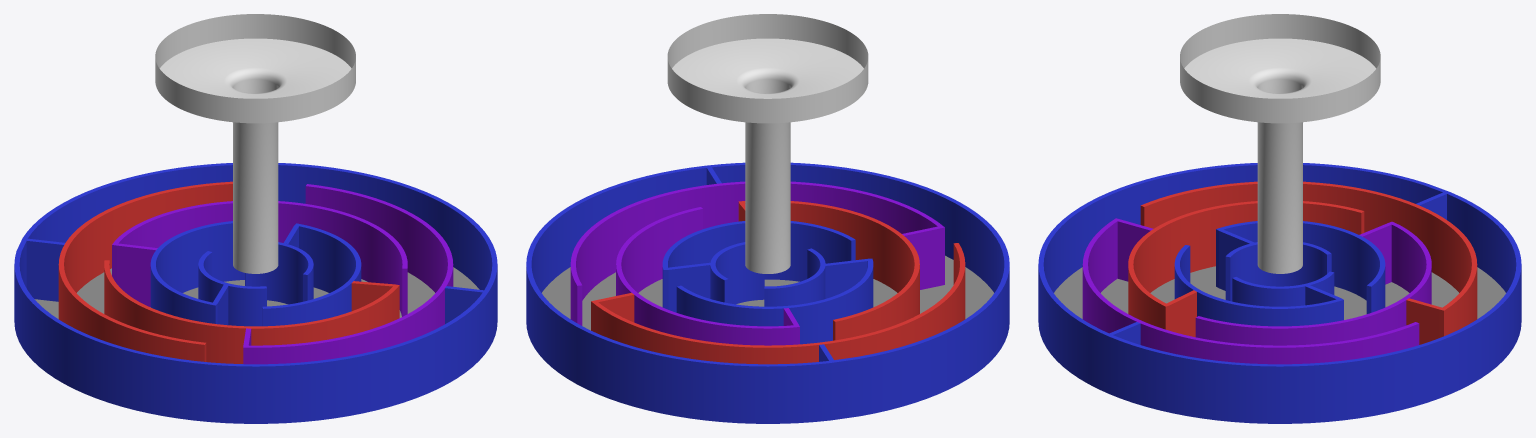
Rendered from SM_Maze.fbx.
3 views of the same model, side by side, from view 1: azimuth 30°, elevation 25°; view 2: azimuth 150°, elevation 25°; view 3: azimuth 270°, elevation 25° (orthographic).
Visible parts, largest first — view 1: Circle.011, Circle.021, Circle.010, Circle.009, Circle.008, Circle.007, Circle.005, Circle.006, Circle.002, Circle.019, Circle.003, Circle.015 (+4 smaller); view 2: Circle.011, Circle.021, Circle.010, Circle.009, Circle.007, Circle.008, Circle.005, Circle.006, Circle.019, Circle.002, Circle.003, Circle.018 (+3 smaller); view 3: Circle.011, Circle.021, Circle.009, Circle.010, Circle.008, Circle.007, Circle.019, Circle.005, Circle.006, Circle.003, Circle.002, Circle.014 (+5 smaller).
Boxes of the visible parts, bbox=[...] form: Circle.011: bbox=[14, 163, 497, 423]; Circle.021: bbox=[155, 14, 355, 273]; Circle.010: bbox=[243, 184, 453, 364]; Circle.009: bbox=[58, 181, 232, 361]; Circle.008: bbox=[104, 260, 399, 363]; Circle.007: bbox=[112, 201, 407, 316]; Circle.005: bbox=[150, 221, 244, 324]; Circle.006: bbox=[262, 223, 361, 326]; Circle.002: bbox=[245, 242, 313, 304]; Circle.019: bbox=[34, 267, 479, 318]; Circle.003: bbox=[198, 251, 266, 326]; Circle.015: bbox=[26, 238, 64, 301]; Circle.011: bbox=[526, 162, 1009, 423]; Circle.021: bbox=[667, 14, 868, 273]; Circle.010: bbox=[570, 181, 944, 325]; Circle.009: bbox=[591, 243, 965, 364]; Circle.007: bbox=[616, 207, 799, 345]; Circle.008: bbox=[738, 201, 919, 340]; Circle.005: bbox=[676, 258, 873, 344]; Circle.006: bbox=[662, 221, 855, 309]; Circle.019: bbox=[542, 255, 993, 330]; Circle.002: bbox=[710, 242, 764, 304]; Circle.003: bbox=[764, 248, 825, 306]; Circle.018: bbox=[902, 226, 940, 289]; Circle.011: bbox=[1038, 163, 1521, 423]; Circle.021: bbox=[1180, 14, 1380, 273]; Circle.009: bbox=[1140, 181, 1477, 337]; Circle.010: bbox=[1082, 218, 1419, 364]; Circle.008: bbox=[1128, 201, 1364, 330]; Circle.007: bbox=[1195, 221, 1431, 345]; Circle.019: bbox=[1054, 266, 1505, 319]; Circle.005: bbox=[1216, 221, 1385, 313]; Circle.006: bbox=[1174, 245, 1343, 326]; Circle.003: bbox=[1225, 242, 1331, 301]; Circle.002: bbox=[1232, 271, 1334, 306]; Circle.014: bbox=[1406, 298, 1441, 344].
Size of the model in its own units: 2287 by 1386 by 2287.
